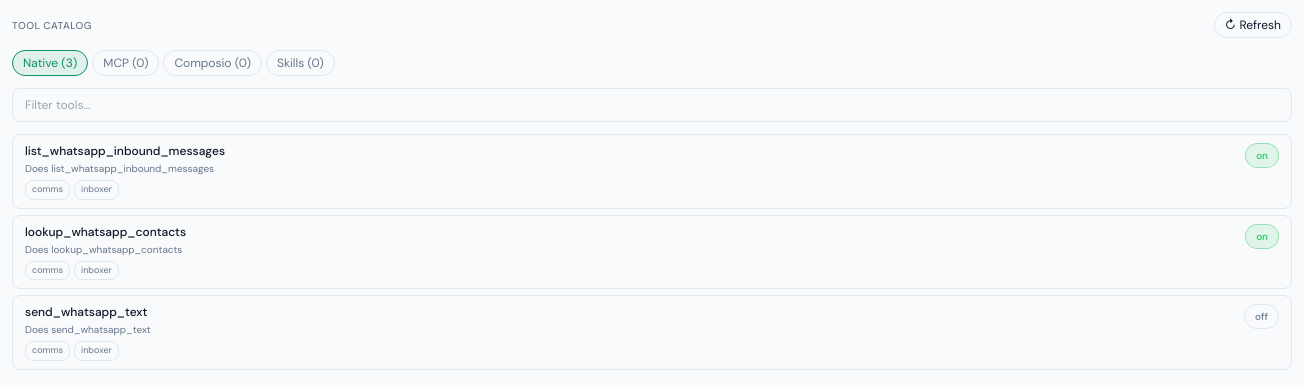
ToolsPanel — tabs and counts › shows empty state when no tools in tab
Click the button "MCP (0)". click: (126, 63)
box: [92,50,159,76]
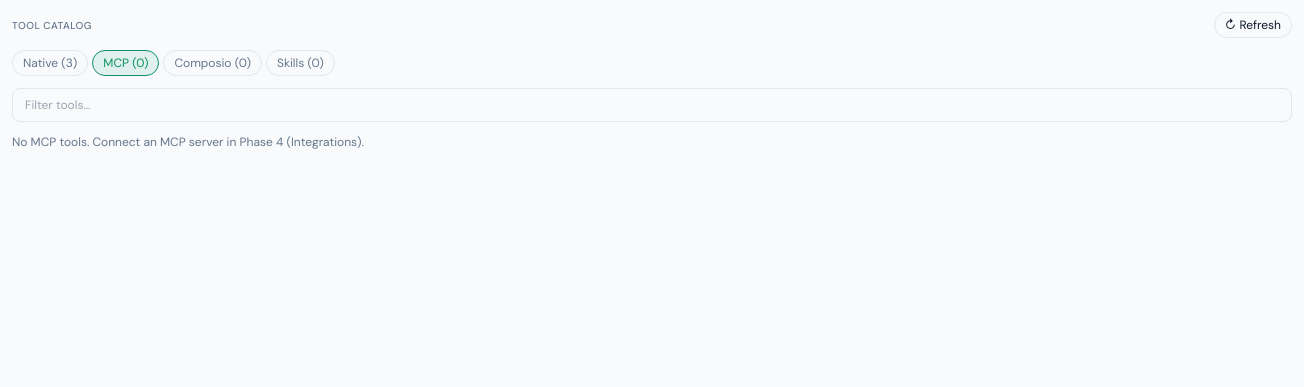
Check: the text "No MCP tools" is shown, box [12,134,364,150]
